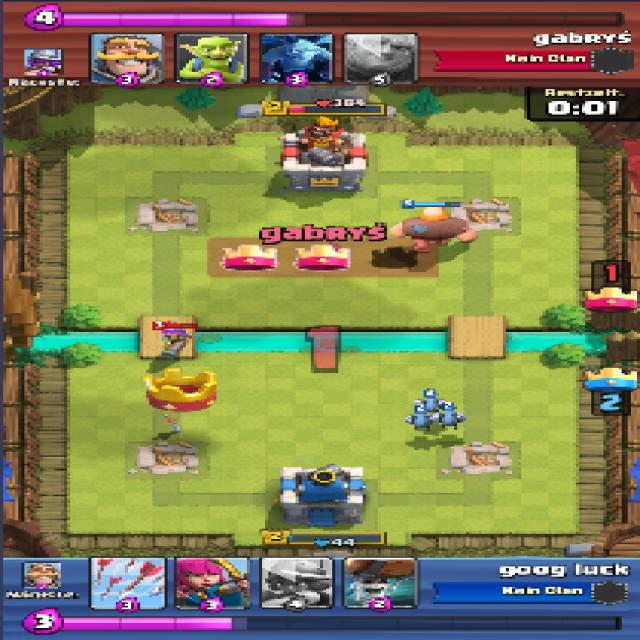Enemy-Musketeer: (153, 324, 188, 359)
Player-Giant: (386, 208, 475, 252)
Player-Minion: (438, 408, 460, 428), (408, 412, 432, 430), (419, 397, 446, 412)
